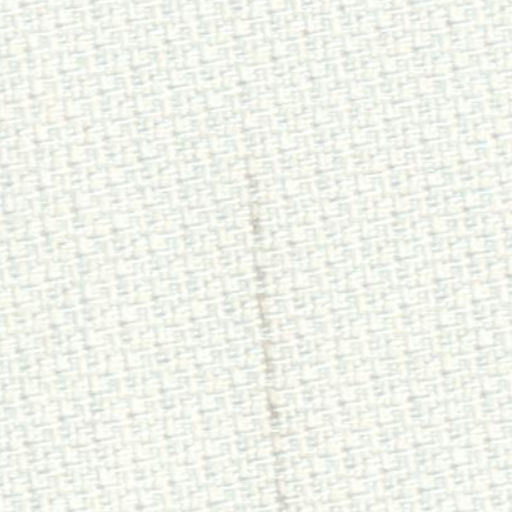WuZi: (236, 86, 292, 507)
